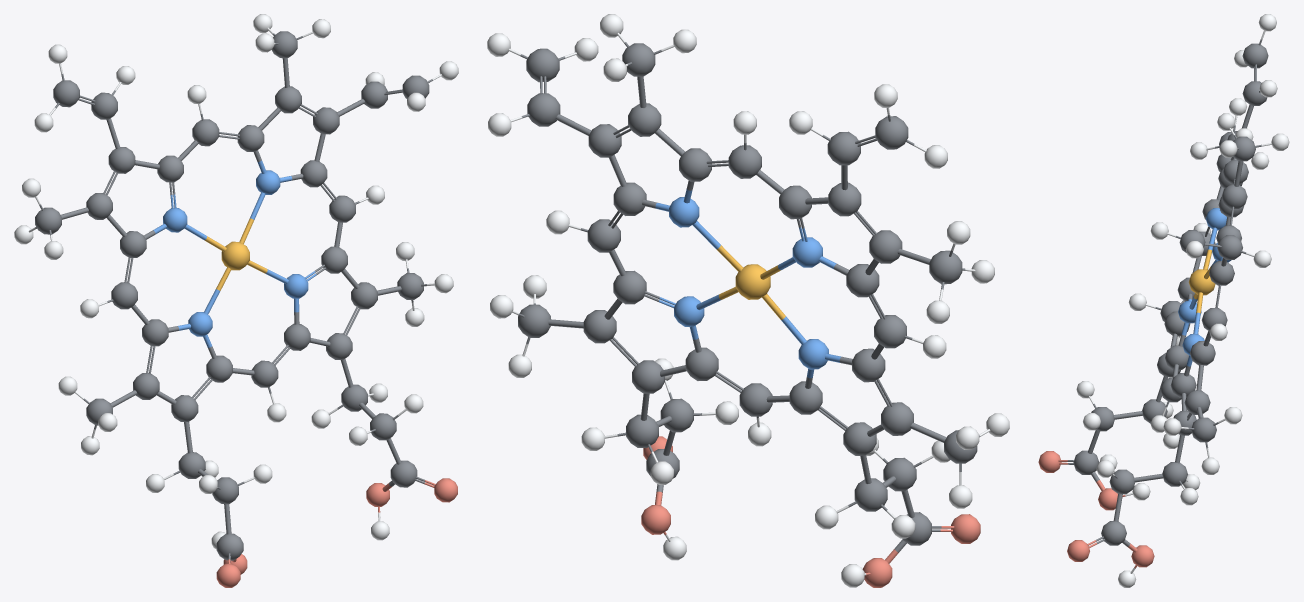
File: heme.glb
3 views of the same model, side by side, from view 1: azimuth 30°, elevation 25°; view 2: azimuth 150°, elevation 25°; view 3: azimuth 270°, elevation 25° (orthographic). The views are drawn at different scales.
Visible parts, largest first — view 1: node-geom191, node-geom163, node-geom164, node-geom165, node-geom183, node-geom184, node-geom160, node-geom167, node-geom186, node-geom187, node-geom150, node-geom155 (+19 smaller); view 2: node-geom191, node-geom155, node-geom164, node-geom167, node-geom151, node-geom150, node-geom156, node-geom184, node-geom173, node-geom165, node-geom177, node-geom163 (+27 smaller); view 3: node-geom169, node-geom157, node-geom155, node-geom151, node-geom160, node-geom152, node-geom178, node-geom159, node-geom191, node-geom188, node-geom173, node-geom179 (+14 smaller).
Boxes of the visible parts, x1,y1,x2,y2 form: node-geom191: [221, 241, 249, 270]; node-geom163: [111, 282, 137, 309]; node-geom164: [192, 119, 219, 146]; node-geom165: [329, 195, 355, 222]; node-geom183: [108, 147, 135, 173]; node-geom184: [313, 107, 339, 134]; node-geom160: [390, 460, 417, 487]; node-geom167: [35, 207, 61, 234]; node-geom186: [142, 319, 168, 346]; node-geom187: [157, 155, 183, 182]; node-geom150: [91, 92, 117, 119]; node-geom155: [53, 80, 79, 107]; node-geom191: [735, 264, 770, 299]; node-geom155: [875, 116, 908, 149]; node-geom164: [728, 145, 761, 178]; node-geom167: [929, 250, 962, 284]; node-geom151: [527, 93, 560, 126]; node-geom150: [827, 131, 860, 165]; node-geom156: [526, 48, 559, 82]; node-geom184: [588, 124, 621, 157]; node-geom173: [613, 270, 646, 304]; node-geom165: [587, 219, 620, 252]; node-geom177: [869, 230, 902, 263]; node-geom163: [874, 315, 906, 348]; node-geom169: [1191, 417, 1216, 442]; node-geom157: [1109, 469, 1135, 494]; node-geom155: [1242, 43, 1268, 68]; node-geom151: [1217, 235, 1242, 259]; node-geom160: [1101, 521, 1126, 545]; node-geom152: [1162, 462, 1187, 486]; node-geom178: [1221, 184, 1247, 208]; node-geom159: [1073, 450, 1099, 474]; node-geom191: [1188, 269, 1215, 295]; node-geom188: [1209, 261, 1234, 285]; node-geom173: [1190, 341, 1215, 365]; node-geom179: [1184, 390, 1210, 414].
Size of the model in its own units: 12.65 by 14.65 by 7.22.
